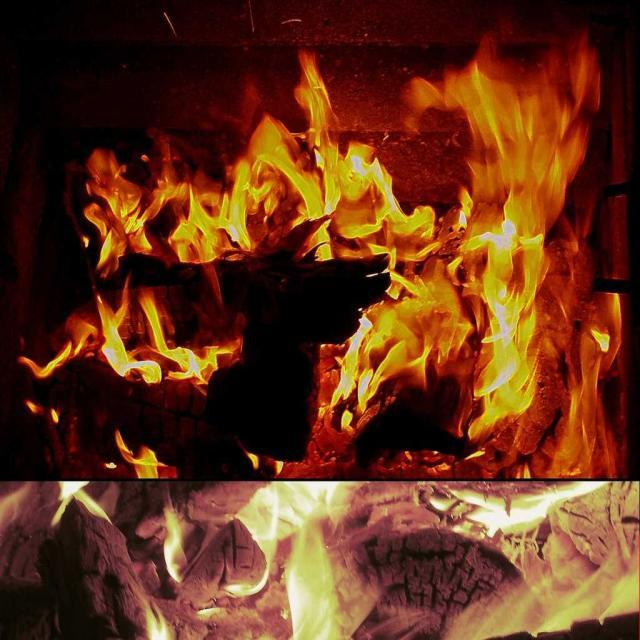Fire: (56, 52, 600, 475), (241, 484, 634, 634), (52, 480, 111, 535), (155, 497, 193, 578)
